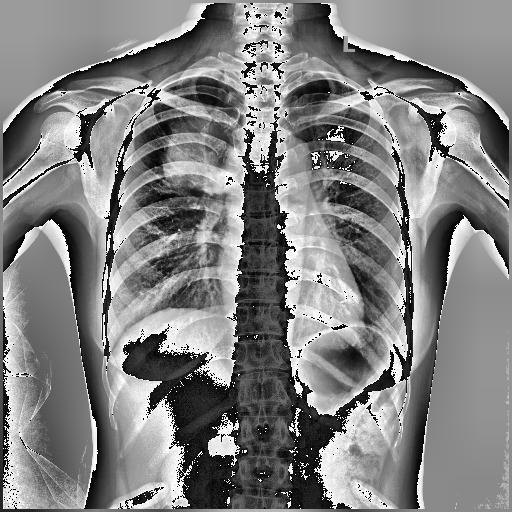11- Pleural thickening: (164, 76, 231, 88)
7- Lung Opacity: (162, 107, 254, 197), (163, 112, 234, 192)
8- Nodule-Mass: (162, 107, 254, 197), (163, 112, 234, 192), (162, 117, 228, 192)
